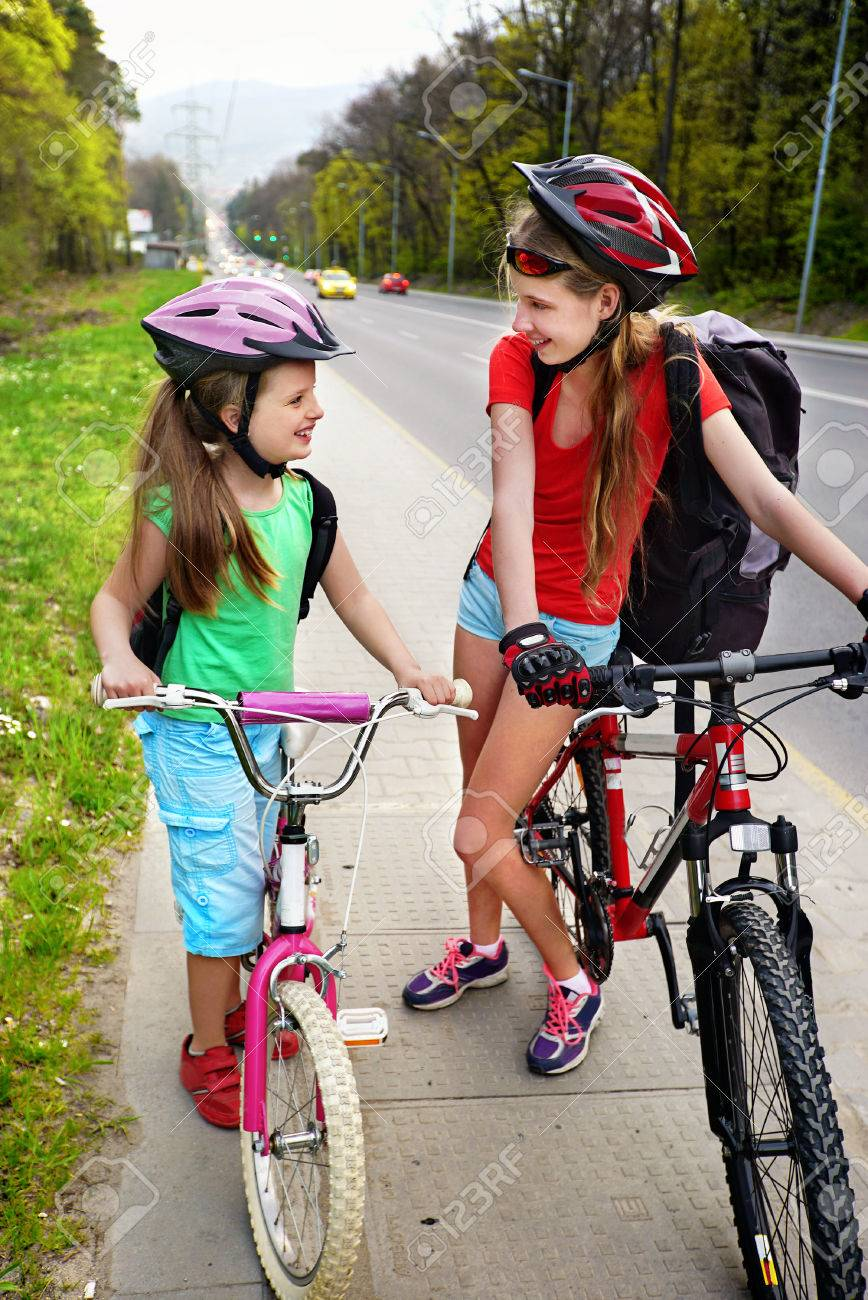helmet: (505, 153, 698, 366), (140, 277, 357, 462)
